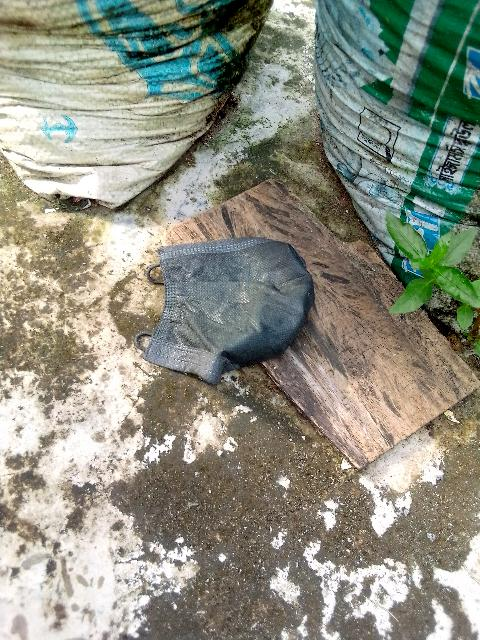mask: (117, 195, 334, 381)
